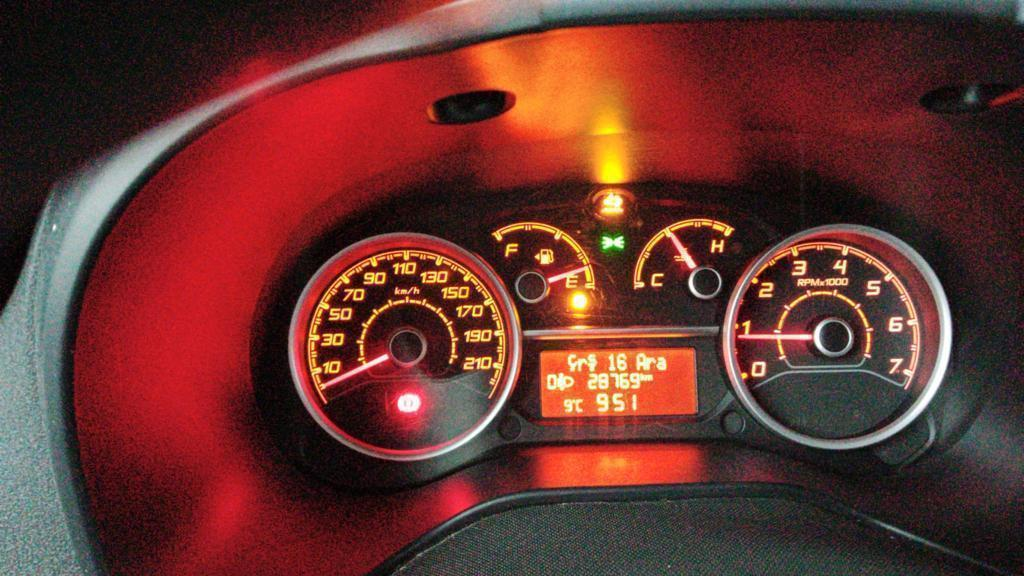0: (546, 373, 556, 390)
1: (607, 352, 616, 371), (631, 392, 637, 411)
2: (587, 373, 598, 389)
5: (612, 392, 625, 412)
6: (616, 351, 627, 371), (619, 372, 629, 389)
7: (609, 372, 619, 388)
8: (598, 372, 608, 389)
9: (595, 392, 609, 412), (629, 371, 640, 388), (563, 398, 572, 413)
X: (587, 352, 598, 371), (635, 352, 646, 370), (567, 353, 577, 371), (577, 356, 587, 372), (656, 356, 667, 370), (646, 355, 656, 370), (575, 398, 583, 412), (645, 374, 653, 381), (640, 372, 645, 381)
odometer: (538, 346, 703, 418)
